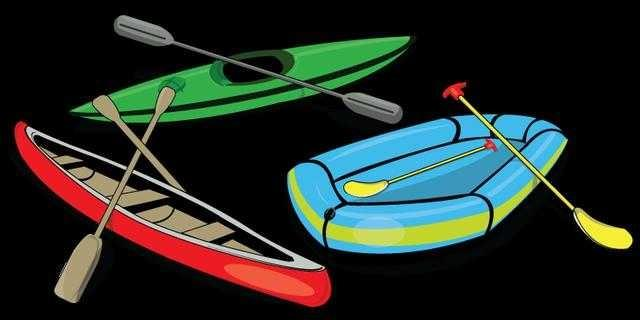kayak: (12, 122, 332, 311), (286, 110, 571, 256), (69, 31, 415, 130)
